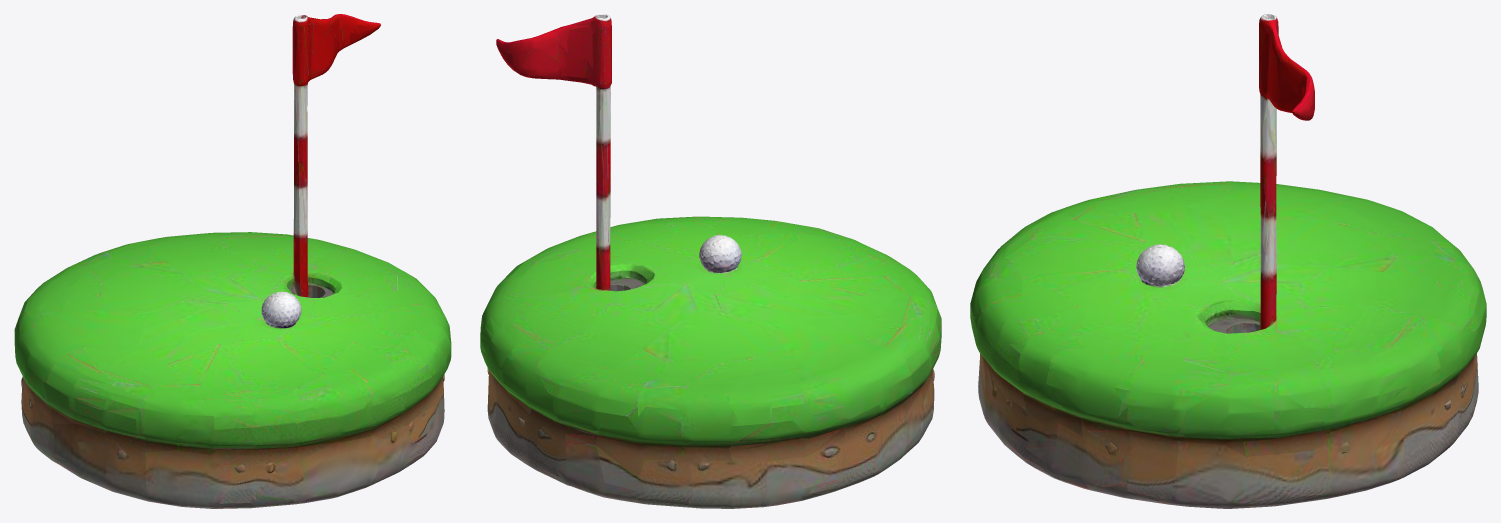
Rendered from flag.glb.
The picture shows the model from 3 angles, left to right: view 1: azimuth 30°, elevation 25°; view 2: azimuth 150°, elevation 25°; view 3: azimuth 270°, elevation 25°; orthographic projection. The views are drawn at different scales.
Bounding box in the file's own units: 1.9 × 1.79 × 1.9.
1 material, 1 textured.
